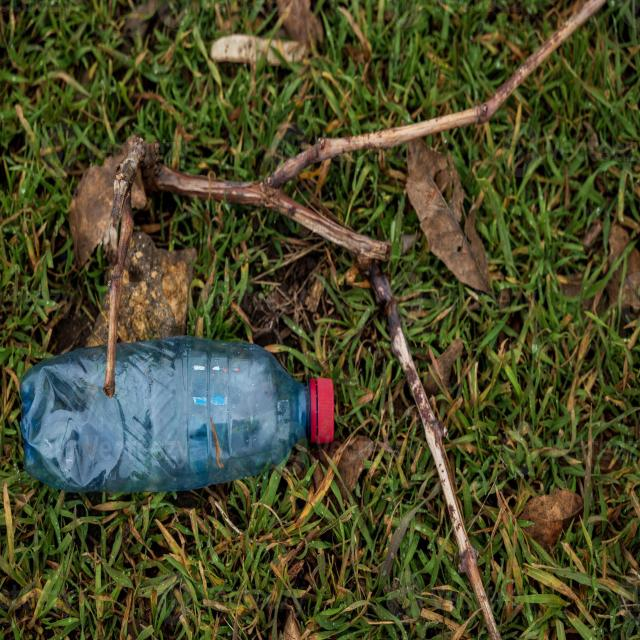plastic bottle: (21, 352, 340, 493)
